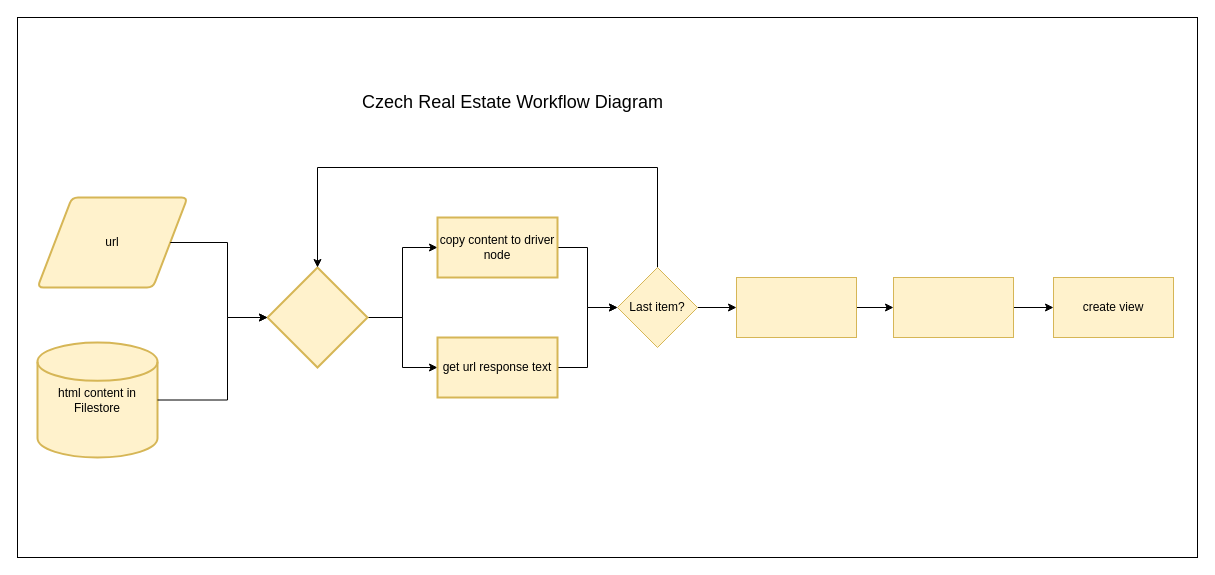
The diagram is 1215 pixels wide and 575 high, and some of its shapes have lost their labels. Each missing label, with the box of its shape:
raw ingestion: (736, 276, 856, 338)
trusted ingestion: (892, 276, 1014, 338)
url or path?: (266, 266, 368, 368)
